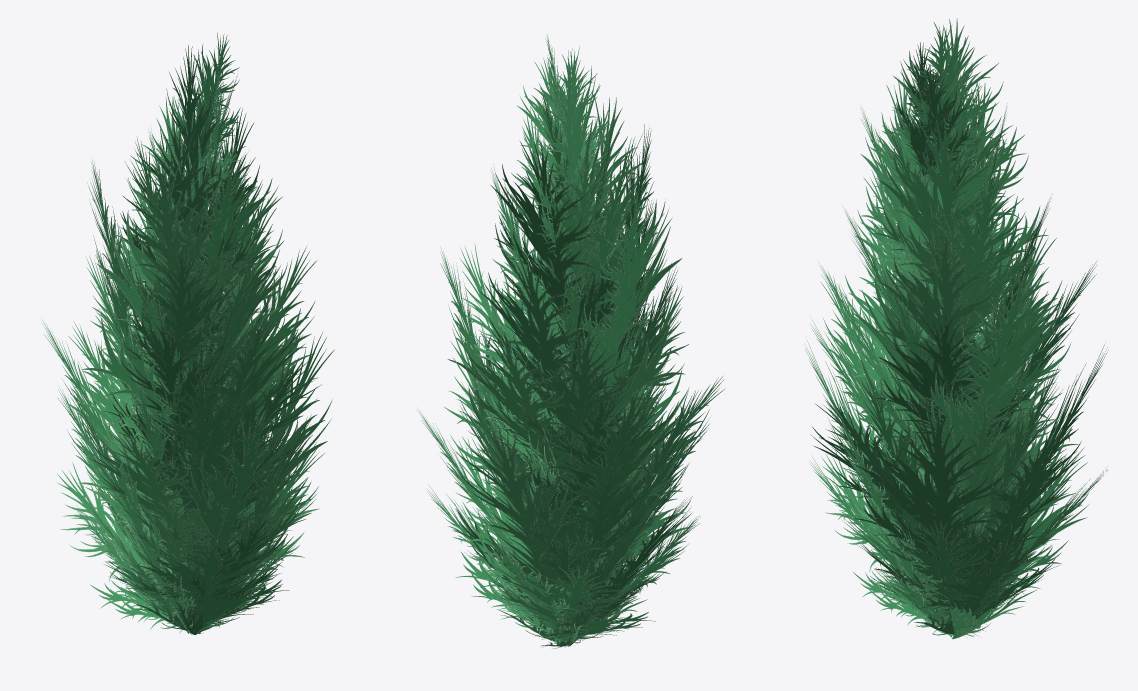
Rendered from tree.fbx.
3 views of the same model, side by side, from view 1: azimuth 30°, elevation 25°; view 2: azimuth 150°, elevation 25°; view 3: azimuth 270°, elevation 25° (orthographic). The views are drawn at different scales.
Parts seen in each view (by area): view 1: tree; view 2: tree; view 3: tree.
Boxes of the visible parts, x1,y1,x2,y2 form: tree: (41,32,334,634); tree: (417,34,725,648); tree: (805,18,1108,639).
Bounding box in the file's own units: 1.52 × 2.97 × 1.46.
